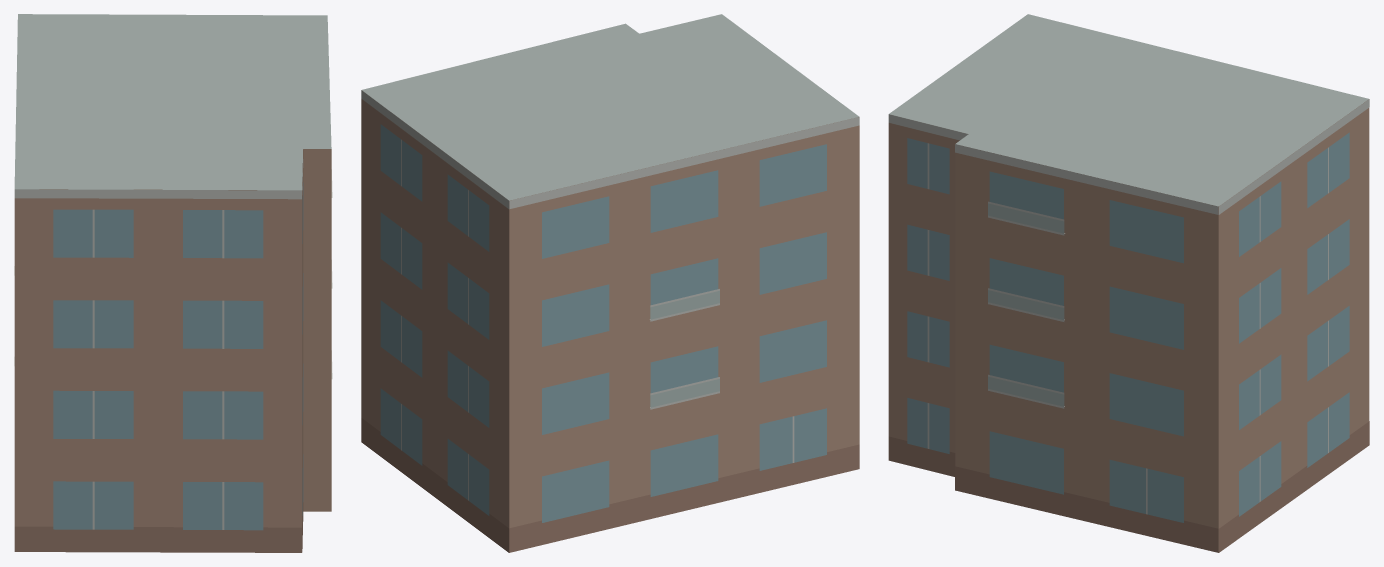
The model's file is survey-upis-32666932.glb.
3 renders of one model, left to right at view 1: azimuth 30°, elevation 25°; view 2: azimuth 150°, elevation 25°; view 3: azimuth 270°, elevation 25°, orthographic. The views are drawn at different scales.
Parts seen in each view (by area): view 1: survey-upis-32666932.tmp; view 2: survey-upis-32666932.tmp; view 3: survey-upis-32666932.tmp.
Boxes of the visible parts, x1,y1,x2,y2 form: survey-upis-32666932.tmp: (14, 14, 332, 552); survey-upis-32666932.tmp: (361, 14, 859, 552); survey-upis-32666932.tmp: (888, 14, 1369, 552).
Size of the model in its own units: 11.81 by 9.9 by 12.46.
